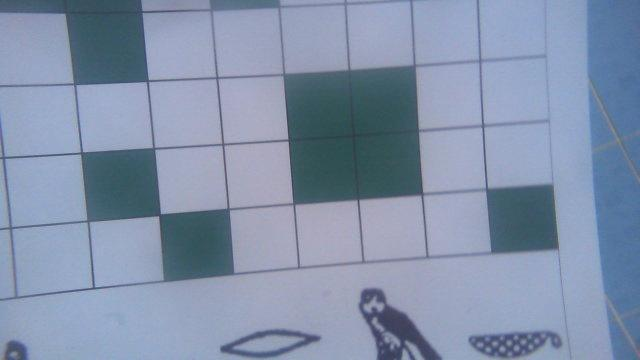Basket: (465, 329, 564, 358)
Mouth: (218, 326, 327, 358)
Owl: (354, 286, 446, 360)
